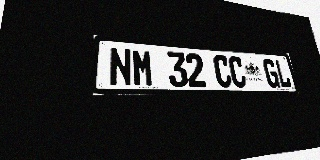2: (185, 53, 206, 87)
3: (167, 51, 188, 87)
C: (213, 55, 233, 87), (228, 56, 247, 87)
G: (262, 59, 280, 88)
L: (274, 60, 292, 88)
M: (132, 49, 154, 87)
N: (109, 47, 132, 86)
